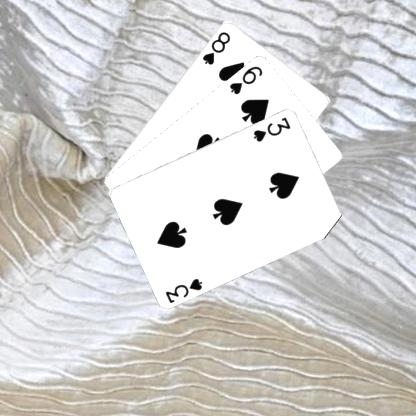3S: (251, 114, 292, 143), (163, 275, 204, 304)
6S: (227, 63, 264, 96)
8S: (199, 28, 232, 66)
